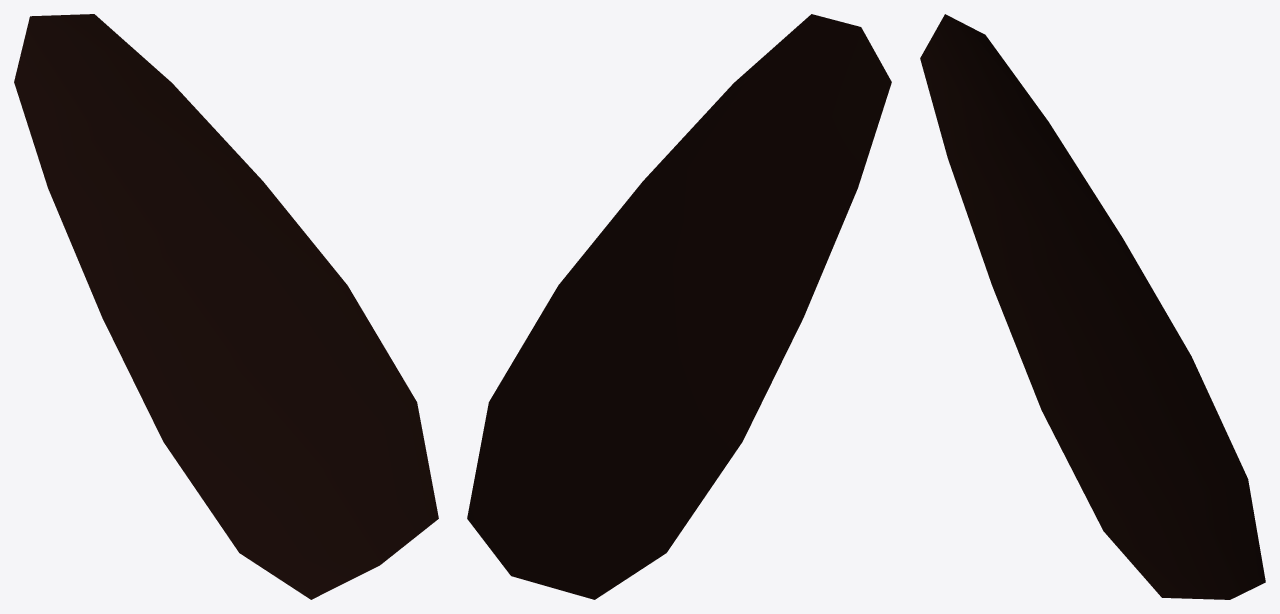
Rendered from finch_feather_flight_secondary_027.obj.
3 views of the same model, side by side, from view 1: azimuth 30°, elevation 25°; view 2: azimuth 150°, elevation 25°; view 3: azimuth 330°, elevation 25° (orthographic). The views are drawn at different scales.
Visible parts, largest first — view 1: feather_flight_secondary_027; view 2: feather_flight_secondary_027; view 3: feather_flight_secondary_027.
Part boxes in pixels (bbox=[...]): feather_flight_secondary_027: bbox=[14, 14, 438, 599]; feather_flight_secondary_027: bbox=[467, 14, 891, 599]; feather_flight_secondary_027: bbox=[920, 14, 1265, 599].
Size of the model in its own units: 0.0112 by 0.0162 by 0.000337.
